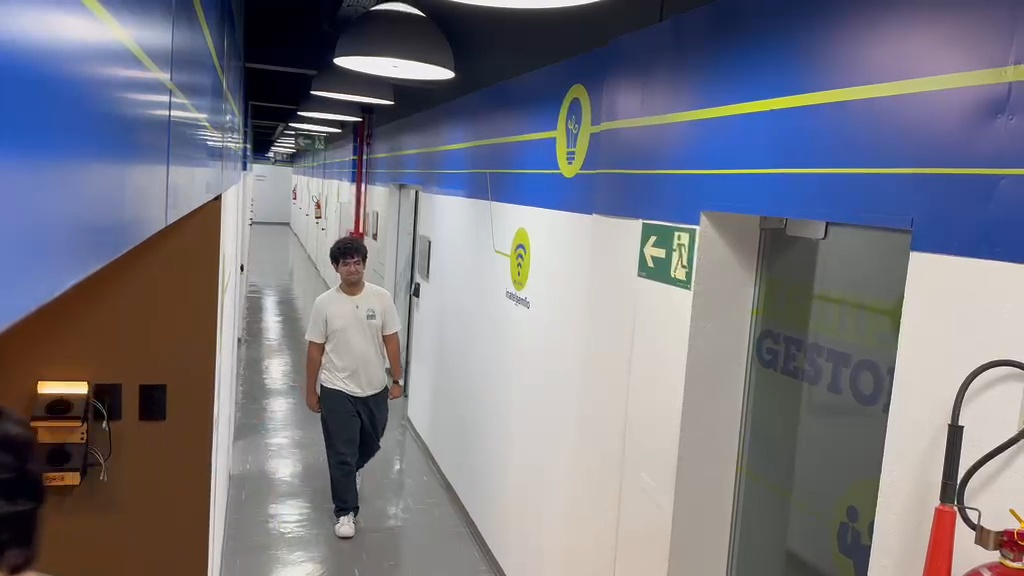person: (303, 234, 403, 541), (0, 405, 46, 573)
